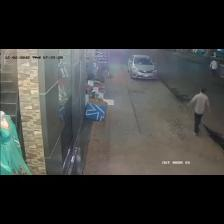person: (189, 88, 209, 135), (210, 60, 217, 76)
